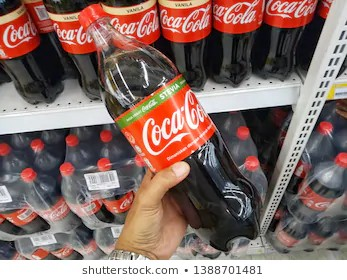coke-bottle-2l: (78, 5, 264, 247)
